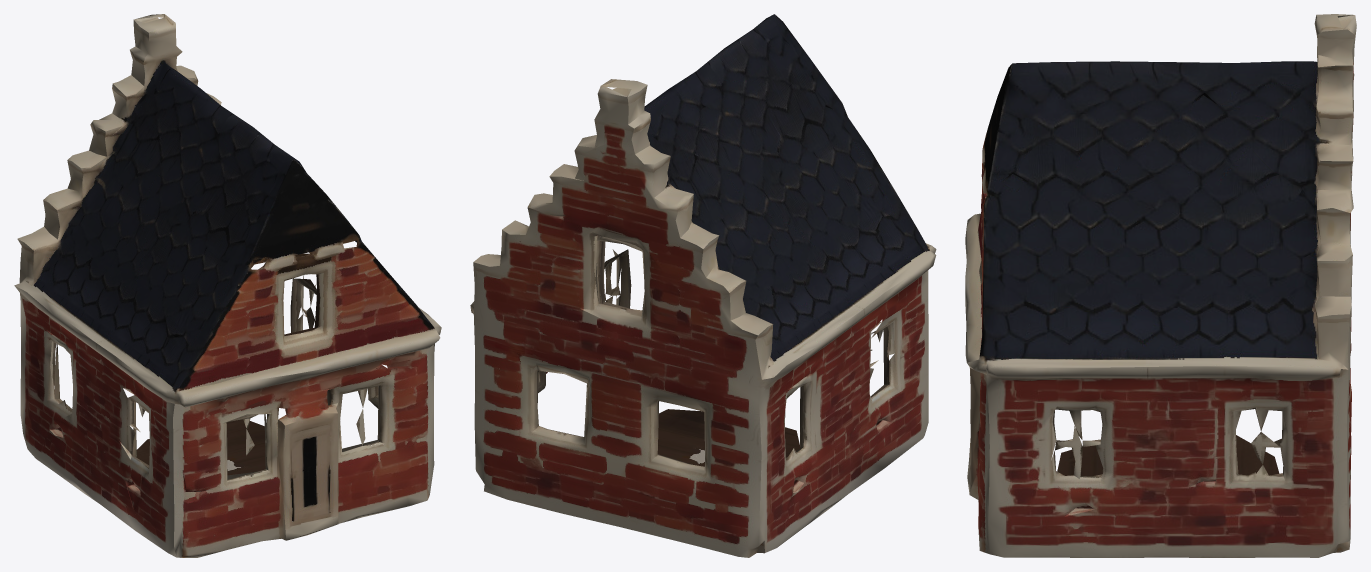
File: houseB.glb
3 views of the same model, side by side, from view 1: azimuth 30°, elevation 25°; view 2: azimuth 150°, elevation 25°; view 3: azimuth 270°, elevation 25° (orthographic). The views are drawn at different scales.
Visible parts, largest first — view 1: world; view 2: world; view 3: world.
Boxes of the visible parts, x1,y1,x2,y2 form: world: (14, 14, 441, 557); world: (470, 14, 936, 557); world: (965, 14, 1356, 557).
Size of the model in its own units: 0.7378 by 1 by 0.7662.
1 material, 1 textured.
